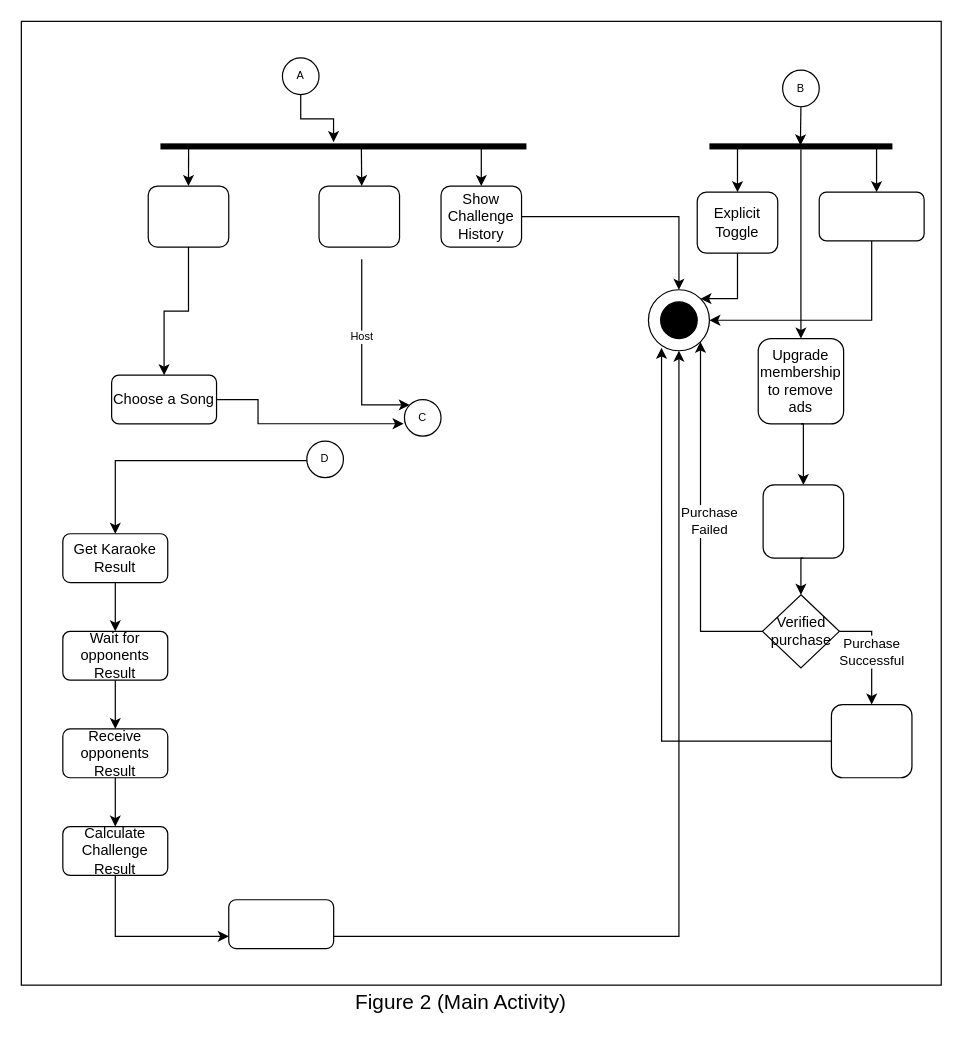
Some shapes in this 963 by 1043 pixel diagram are drawn without their labels. The shapes that lost their labels are listed below. From the top down, each one's centre as x and y in pixels, then its label:
At point 188,216: "Send Challenge".
At point 359,216: "Receive Challenge".
At point 871,216: "Set Favorite Genre".
At point 803,521: "Google play purchase prompt".
At point 871,740: "Upgrade account to Pro".
At point 281,924: "Save Challenge Result".
